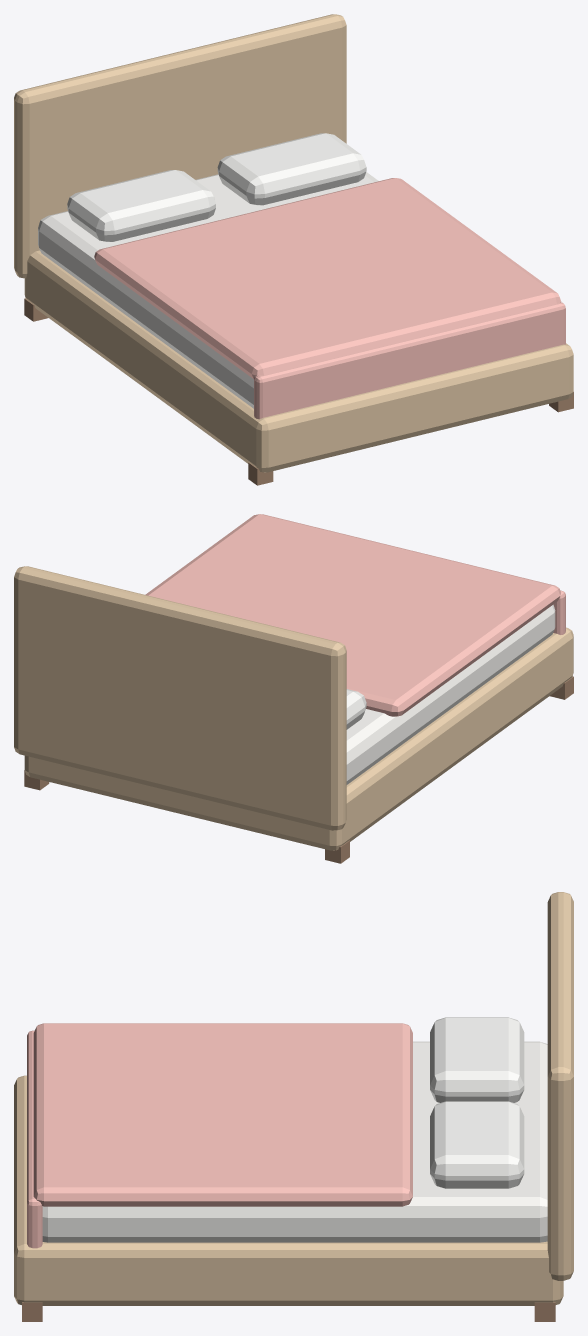
The model's file is cama.glb.
The picture shows the model from 3 angles, top to bottom: view 1: azimuth 30°, elevation 25°; view 2: azimuth 150°, elevation 25°; view 3: azimuth 270°, elevation 25°; orthographic projection. The views are drawn at different scales.
Parts seen in each view (by area): view 1: cama; view 2: cama; view 3: cama.
Part boxes in pixels (bbox=[...]): cama: bbox=[14, 14, 573, 485]; cama: bbox=[14, 514, 573, 863]; cama: bbox=[14, 892, 573, 1321].
Bounding box in the file's own units: 1.66 × 1.07 × 2.14.
